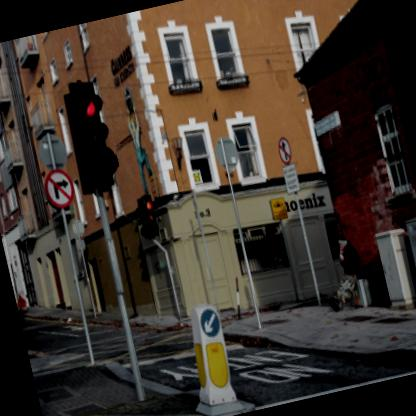trafficlight: (53, 70, 122, 198), (133, 188, 161, 239)
